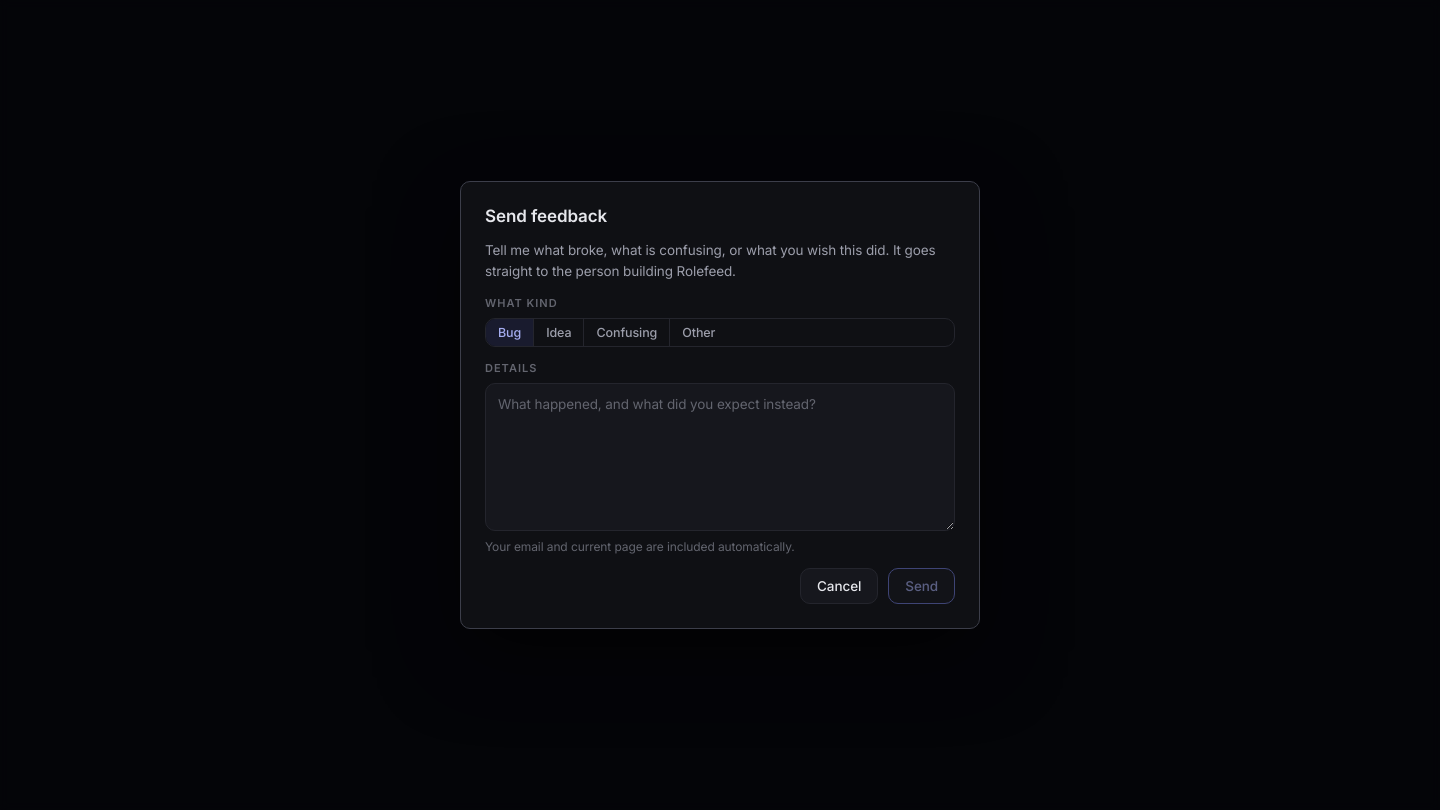
Test case: FeedbackDialog › keeps the typed text when the send fails, so Send is a real retry
In the text box labelled "details": (720, 457) [485,383,955,531], type "the panel is blank"
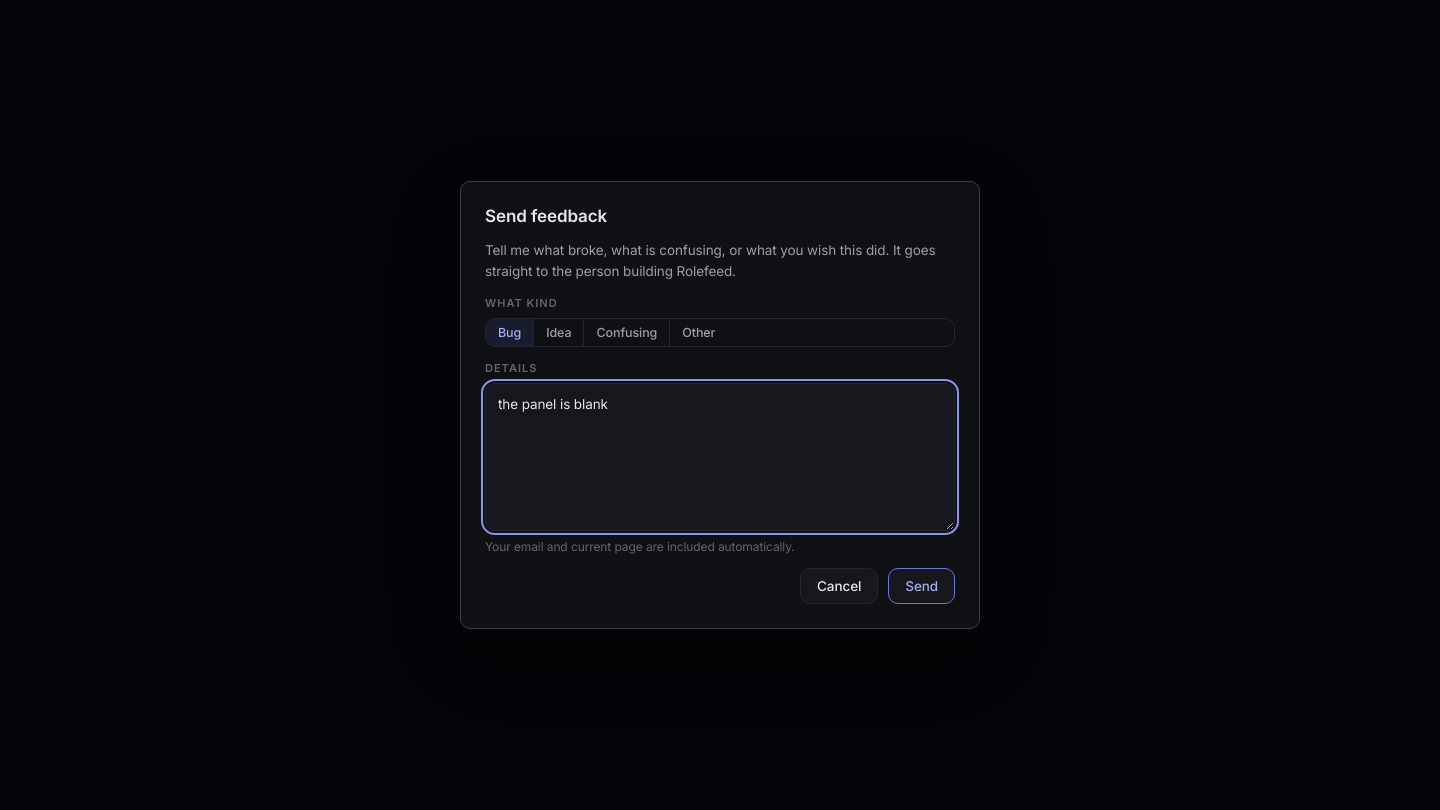
Click the button "Send": click(922, 586) [888,568,955,604]
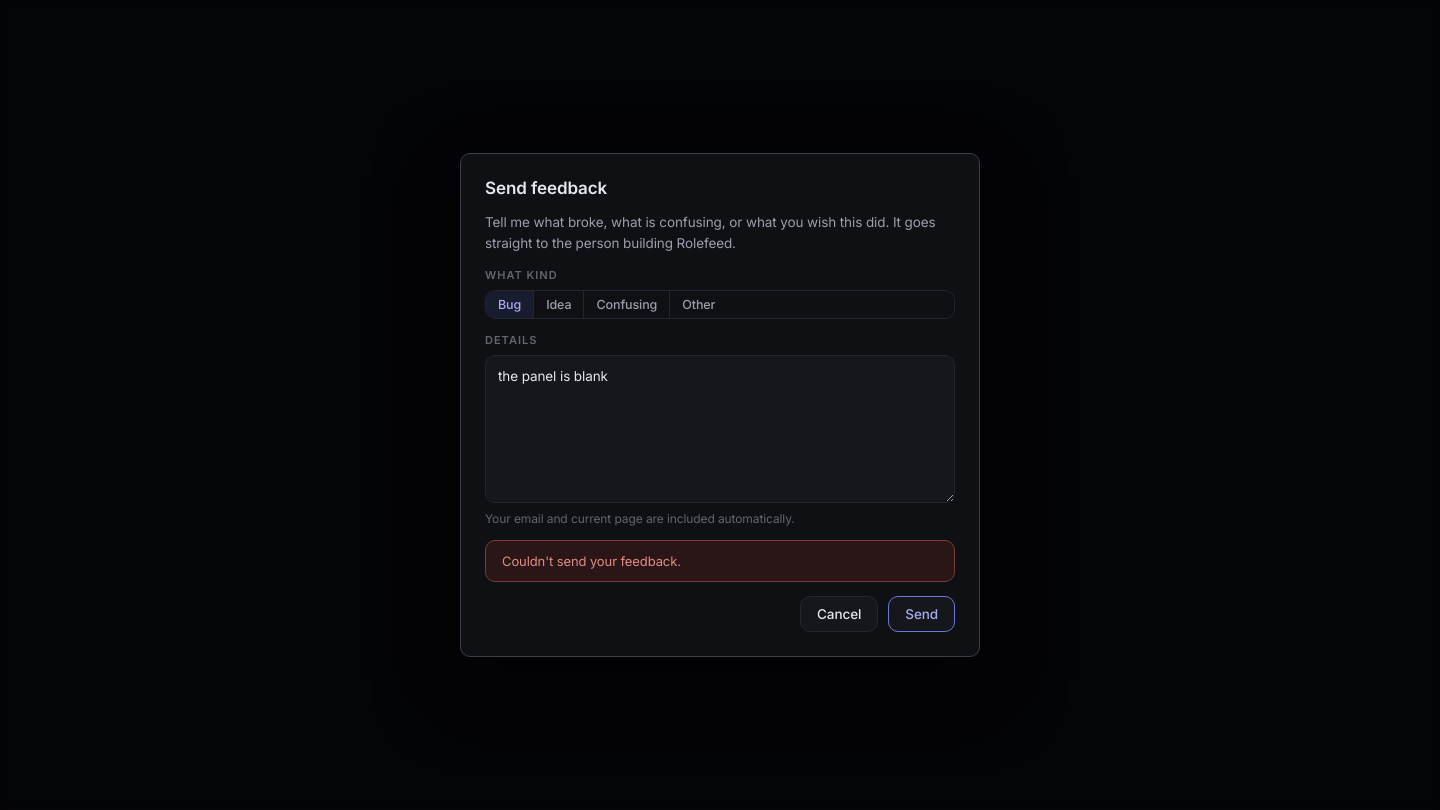
Expected: the message reads "Couldn't send your feedback.", [502,553,681,569]
Click the button "Send": click(922, 614) [888,596,955,632]
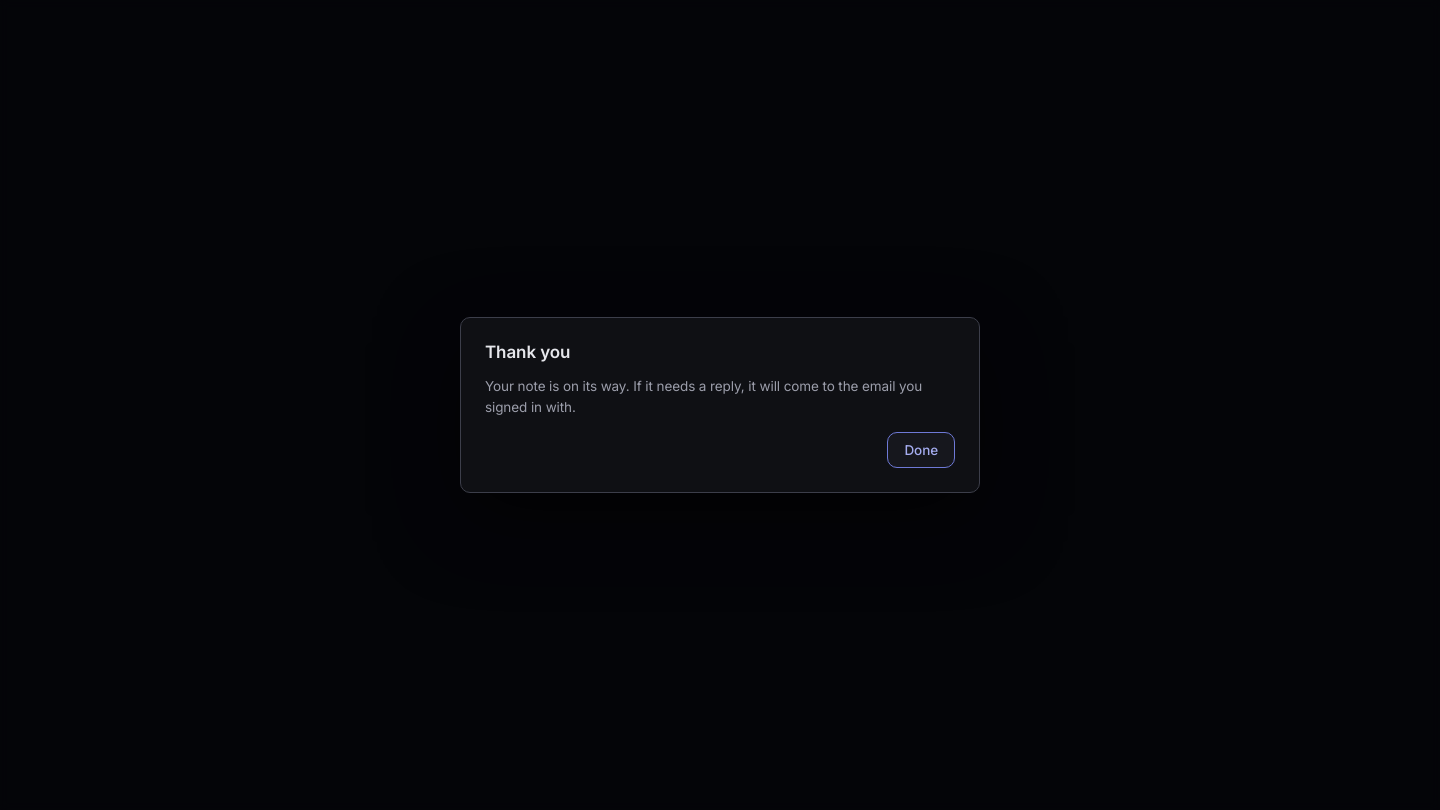
Expected: the heading "Thank you" is shown, [485,342,570,362]
